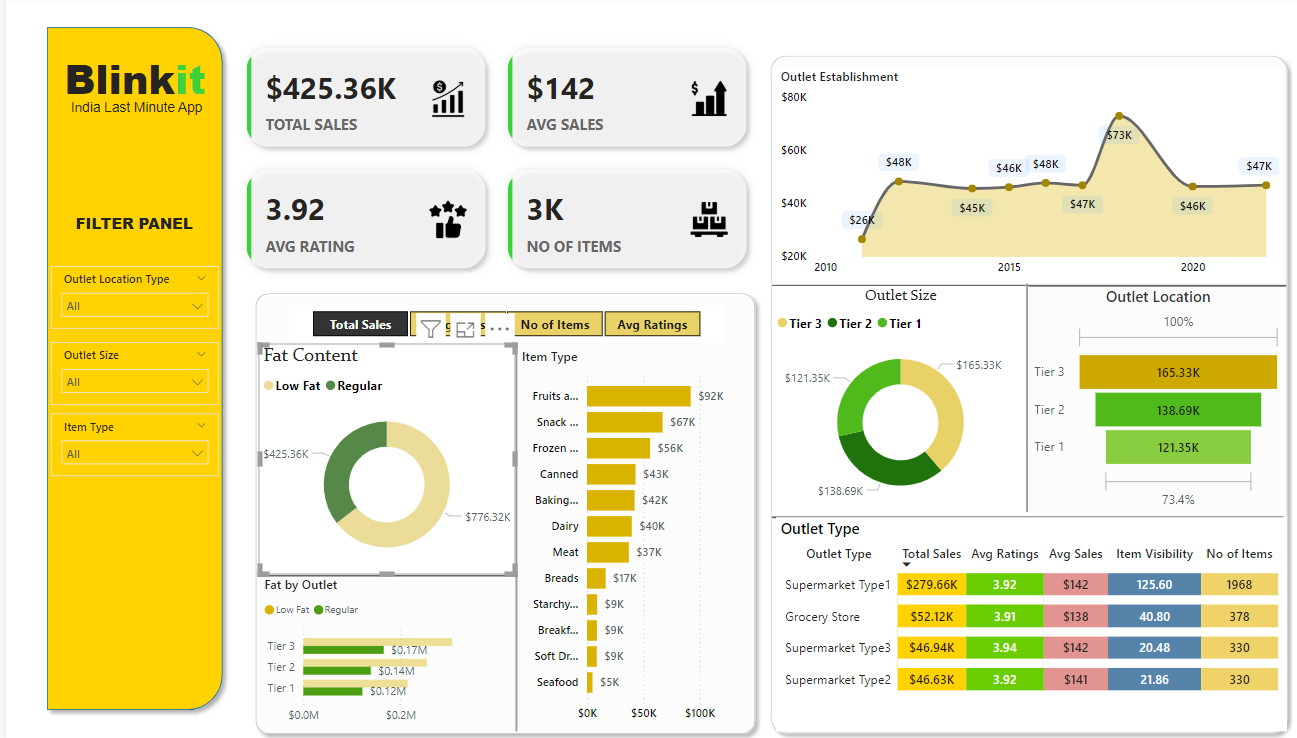

The dashboard page shown, as its layout file describes it:
{"tool":"powerbi","page":{"name":"Page 1","canvas":[1400,800],"ordinal":0},"visuals":[{"type":"shape","box":[34.9,24.1,206.4,750.7],"z":0},{"type":"textbox","box":[48,54,180.1,88.6],"z":1000},{"type":"textbox","box":[64.5,103.6,163.6,39],"z":2000},{"type":"cardVisual","fields":{"Data":["BlinkIT Grocery Data.Total Sales","BlinkIT Grocery Data.Avg Sales","BlinkIT Grocery Data.Avg Ratings","BlinkIT Grocery Data.No of Items"]},"box":[241.6,39,570.3,270.2],"z":3000},{"type":"shape","box":[258.1,309.2,553.8,490.8],"z":4000},{"type":"donutChart","title":" Fat Content","fields":{"Y":["BlinkIT Grocery Data.Total Sales"],"Category":["BlinkIT Grocery Data.Item Fat Content"]},"box":[271,372.4,275.5,248.3],"z":5000},{"type":"slicer","fields":{"Values":["Metrics.Metrics"]},"box":[303.2,331.7,465.3,40.5],"z":6000},{"type":"cardVisual","fields":{"Data":["BlinkIT Grocery Data.Total Sales"]},"box":[352.7,481.4,110.5,87.8],"z":7000},{"type":"clusteredBarChart","title":"Fat by Outlet","fields":{"Y":["BlinkIT Grocery Data.Total Sales"],"Category":["BlinkIT Grocery Data.Outlet Location Type"],"Series":["BlinkIT Grocery Data.Item Fat Content"]},"box":[271.7,621.4,276.2,166.6],"z":8000},{"type":"shape","box":[271,602.5,277,39.4],"z":9000},{"type":"shape","box":[523.8,372.2,46.5,415.7],"z":10000},{"type":"barChart","title":"Item Type","fields":{"Y":["BlinkIT Grocery Data.Total Sales"],"Category":["BlinkIT Grocery Data.Item Type"]},"box":[547.8,376.7,249.1,411.2],"z":11000},{"type":"shape","box":[811.4,54.5,572.2,744.8],"z":12000},{"type":"lineChart","title":"Outlet Establishment ","fields":{"Category":["BlinkIT Grocery Data.Outlet Establishment Year"],"Y":["BlinkIT Grocery Data.Total Sales"]},"box":[825.5,76.5,544.8,232.6],"z":13000},{"type":"shape","box":[822,289.1,551,42.4],"z":14000},{"type":"donutChart","title":"Outlet Size","fields":{"Y":["BlinkIT Grocery Data.Total Sales"],"Category":["BlinkIT Grocery Data.Outlet Location Type"]},"box":[822,310.3,275.5,243.7],"z":15000},{"type":"funnel","title":"Outlet Location ","fields":{"Category":["BlinkIT Grocery Data.Outlet Location Type"],"Y":["Sum(BlinkIT Grocery Data.Sales)"]},"box":[1097.5,310.3,275.5,243.7],"z":16000},{"type":"shape","box":[1079.4,308.8,31.8,245.2],"z":17000},{"type":"shape","box":[822,534.4,548,48.4],"z":18000},{"type":"pivotTable","title":"Outlet Type","fields":{"Rows":["BlinkIT Grocery Data.Outlet Type"],"Values":["BlinkIT Grocery Data.Total Sales","BlinkIT Grocery Data.Avg Ratings","BlinkIT Grocery Data.Avg Sales","Sum(BlinkIT Grocery Data.Item Visibility)","BlinkIT Grocery Data.No of Items"]},"box":[825.7,559,548.3,229.2],"z":19000},{"type":"slicer","fields":{"Values":["BlinkIT Grocery Data.Outlet Location Type"]},"box":[48.3,289.5,179.6,67],"z":19001},{"type":"slicer","fields":{"Values":["BlinkIT Grocery Data.Outlet Size"]},"box":[48.3,371.3,179.6,67],"z":19002},{"type":"slicer","fields":{"Values":["BlinkIT Grocery Data.Item Type"]},"box":[48.3,447.7,179.6,67],"z":19003},{"type":"textbox","box":[60.3,227.9,154.2,49.6],"z":19004}]}

Visuals, with their boxes in screenshot pixels (x1, y1, x2, y2), scaled from the page's 1400x800 canvas onto the 1297x738 screenshot:
shape: Rect(32, 22, 224, 715)
textbox: Rect(44, 50, 211, 132)
textbox: Rect(60, 96, 211, 132)
cardVisual - BlinkIT Grocery Data.Total Sales x BlinkIT Grocery Data.Avg Sales: Rect(224, 36, 752, 285)
shape: Rect(239, 285, 752, 737)
" Fat Content" donutChart: Rect(251, 344, 506, 573)
slicer - Metrics.Metrics: Rect(281, 306, 712, 343)
cardVisual - BlinkIT Grocery Data.Total Sales: Rect(327, 444, 429, 525)
"Fat by Outlet" clusteredBarChart: Rect(252, 573, 508, 727)
shape: Rect(251, 556, 508, 592)
shape: Rect(485, 343, 528, 727)
"Item Type" barChart: Rect(507, 348, 738, 727)
shape: Rect(752, 50, 1282, 737)
"Outlet Establishment " lineChart: Rect(765, 71, 1269, 285)
shape: Rect(762, 267, 1272, 306)
"Outlet Size" donutChart: Rect(762, 286, 1017, 511)
"Outlet Location " funnel: Rect(1017, 286, 1272, 511)
shape: Rect(1000, 285, 1029, 511)
shape: Rect(762, 493, 1269, 538)
"Outlet Type" pivotTable: Rect(765, 516, 1273, 727)
slicer - BlinkIT Grocery Data.Outlet Location Type: Rect(45, 267, 211, 329)
slicer - BlinkIT Grocery Data.Outlet Size: Rect(45, 343, 211, 404)
slicer - BlinkIT Grocery Data.Item Type: Rect(45, 413, 211, 475)
textbox: Rect(56, 210, 199, 256)
